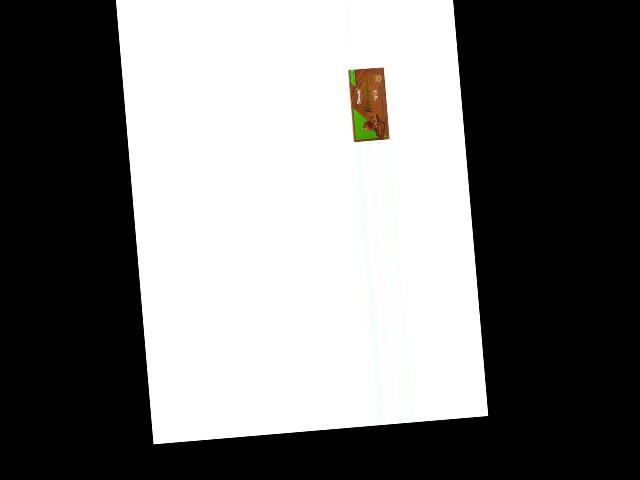chocolate: (344, 64, 391, 143)
